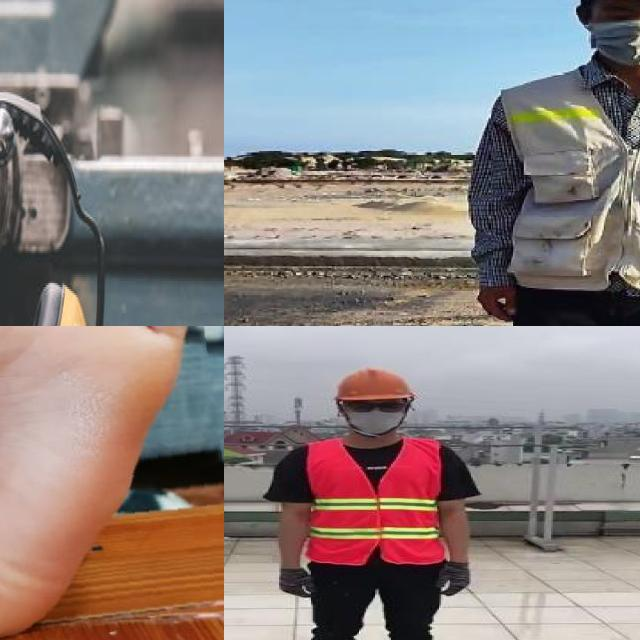Barefoots: (0, 326, 219, 638)
Ear-protection: (0, 88, 106, 326)
face_mask: (584, 0, 640, 64), (339, 396, 409, 434)
glasses: (340, 398, 410, 414)
hand_glove: (435, 564, 473, 597), (276, 569, 316, 600)
head_helmet: (329, 368, 416, 402)
person: (264, 366, 483, 640), (465, 0, 640, 326)
vest: (494, 60, 640, 300), (298, 441, 448, 569)
